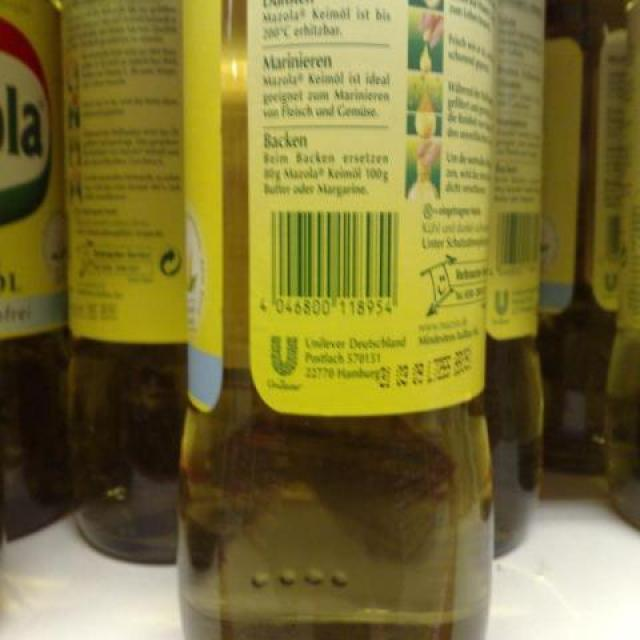Barcode: (257, 202, 408, 322)
